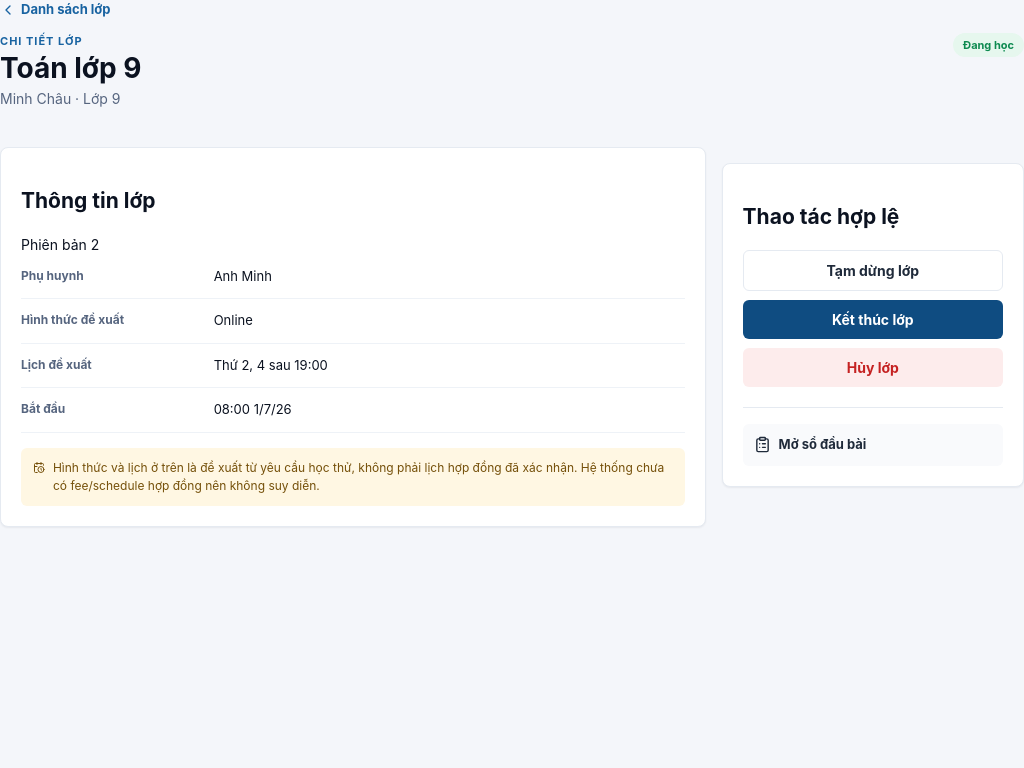
Test case: ClassDetailPage › confirms destructive transition and sends the expected version
Click the button "Tạm dừng lớp" at (873,270), box [743,250,1003,291]
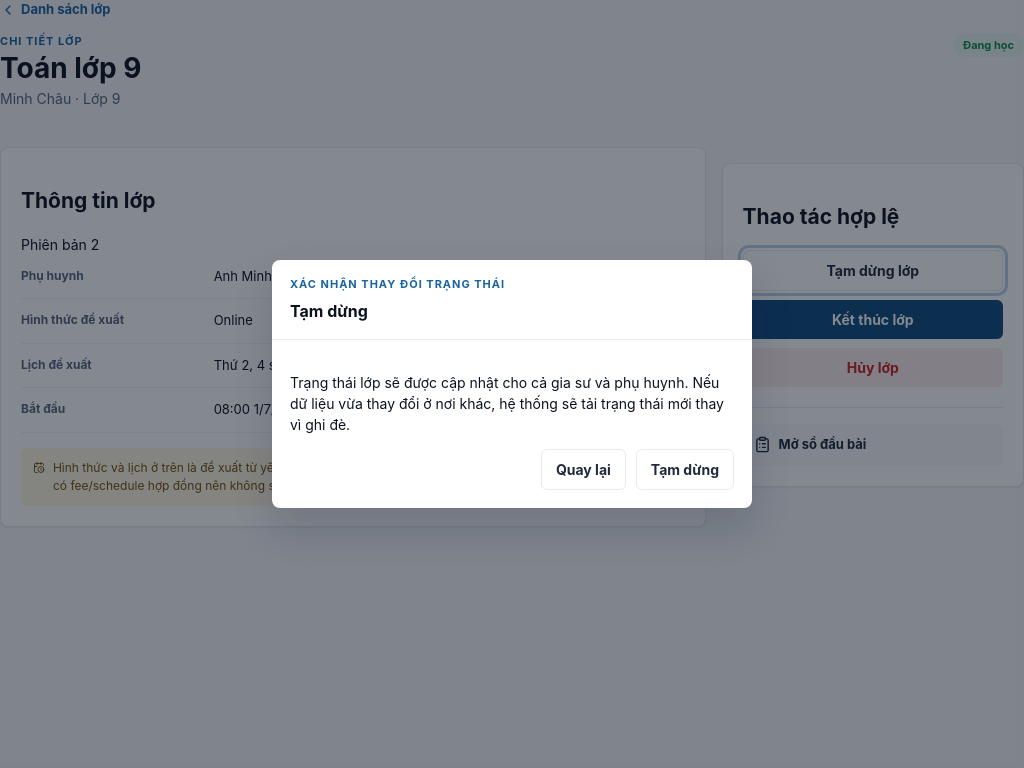
Click the button "Tạm dừng" at (685,469), box [636,449,734,490]
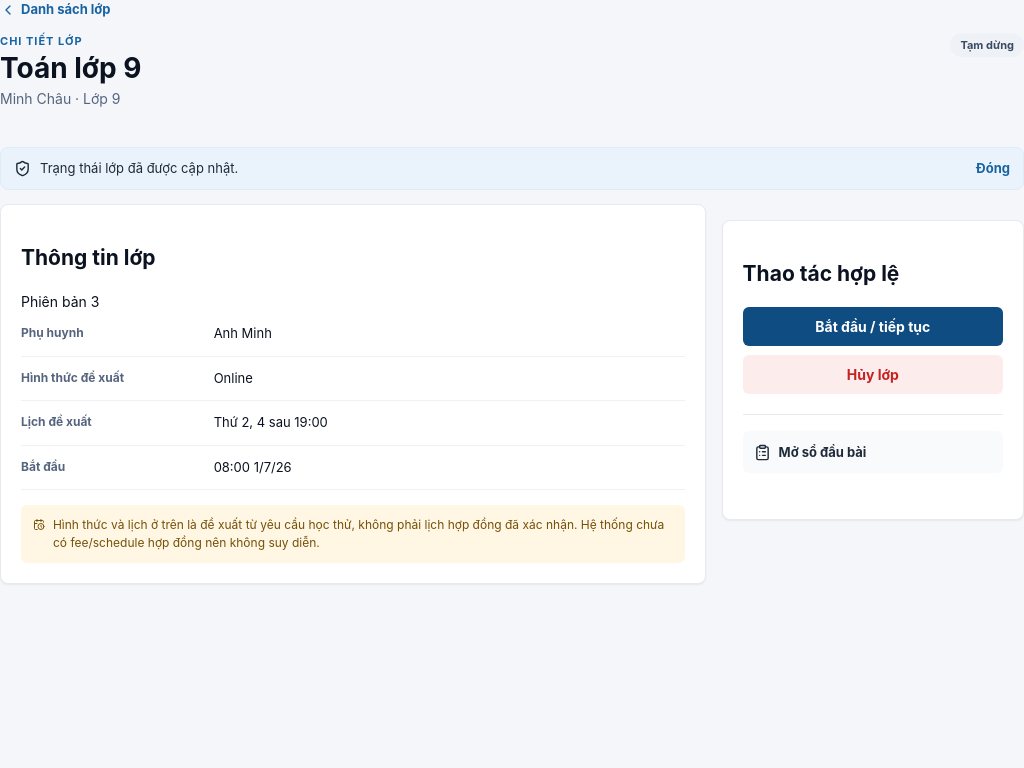
Expected: the text "Tạm dừng" is shown, [950,32,1023,57]
